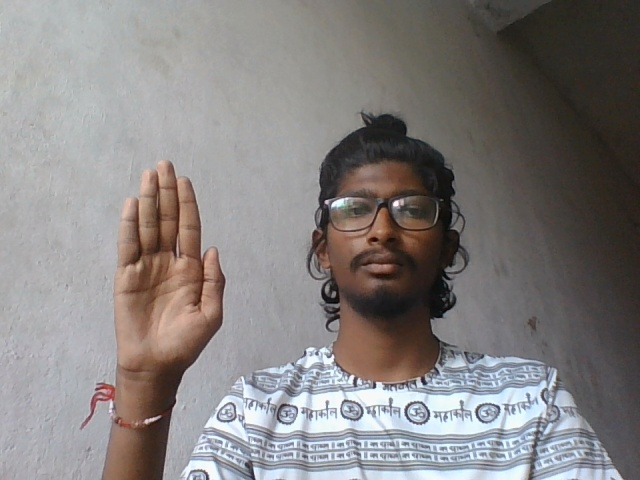Friend: (105, 156, 229, 381)
